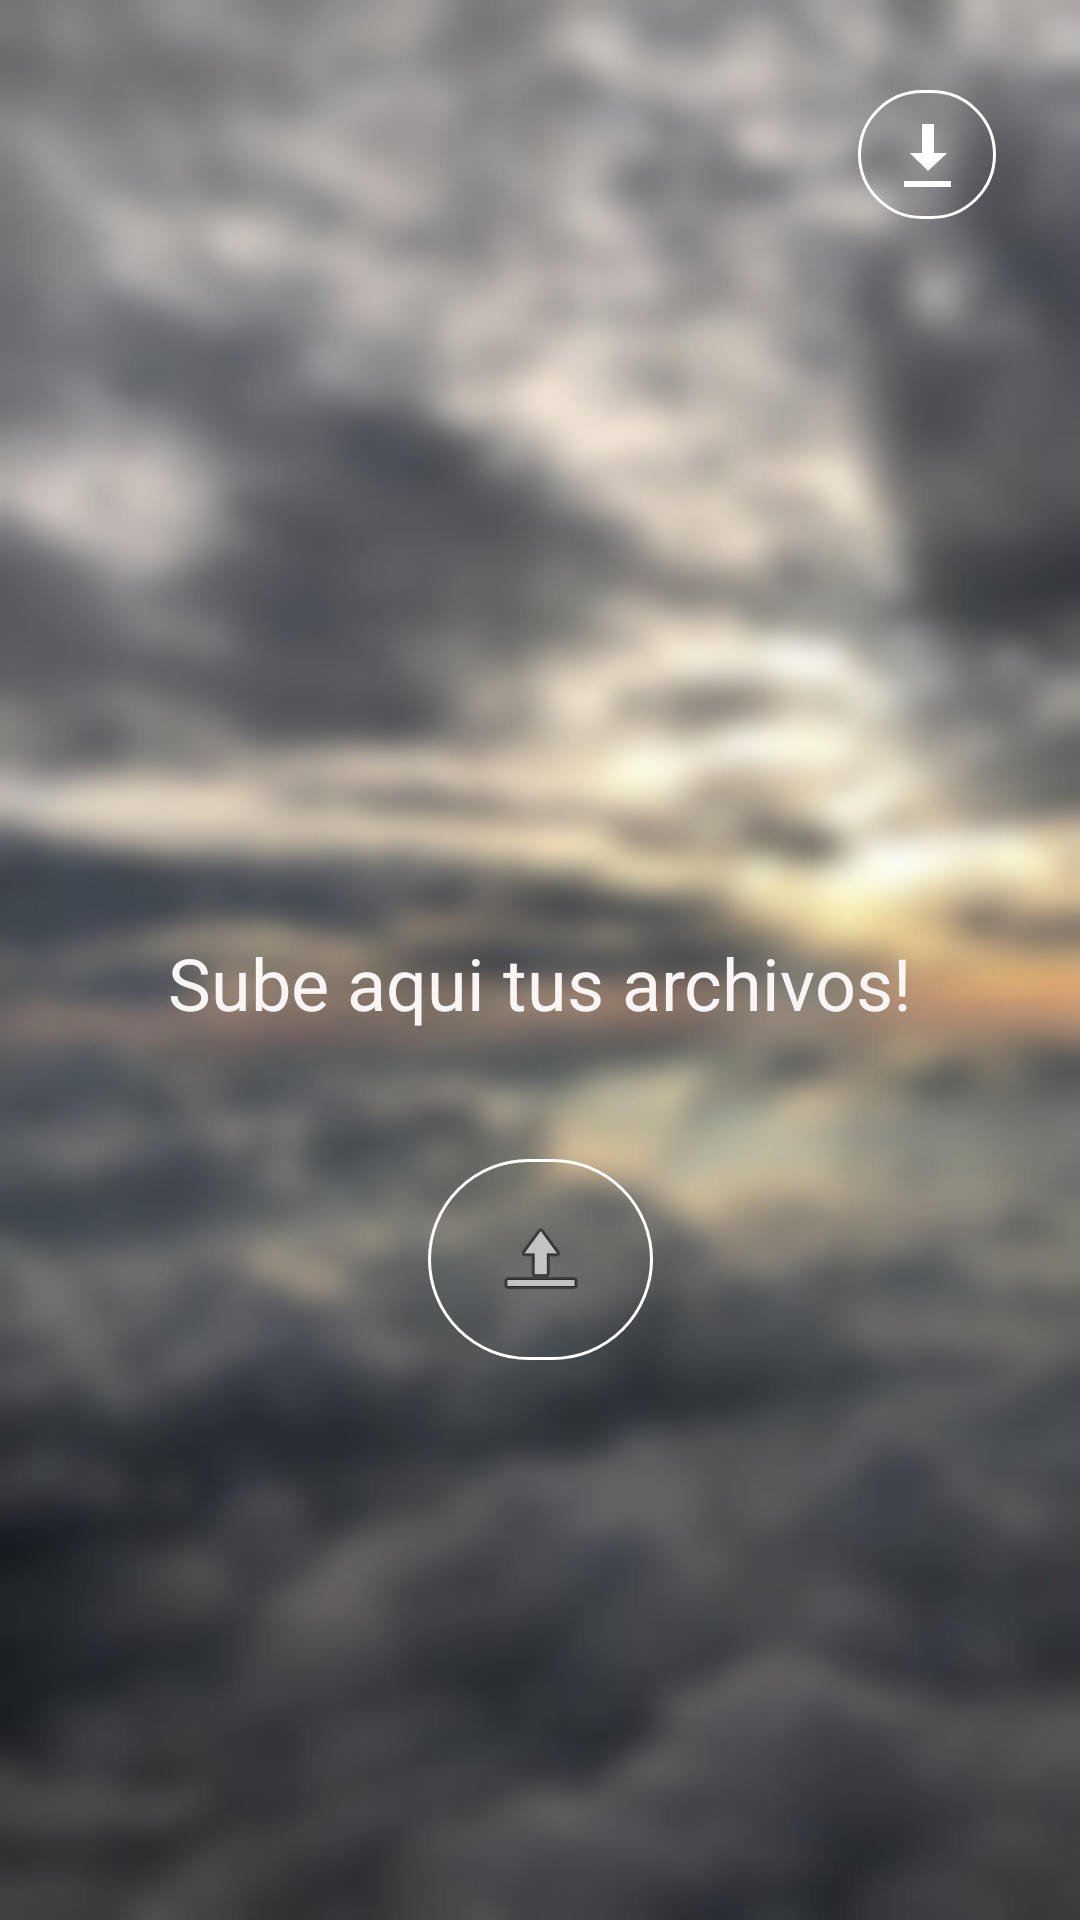

Point at icon controls on the screen. Image size 1080 x 1920, points as point (x, y).
download: point (927, 154)
upload: point (540, 1259)
